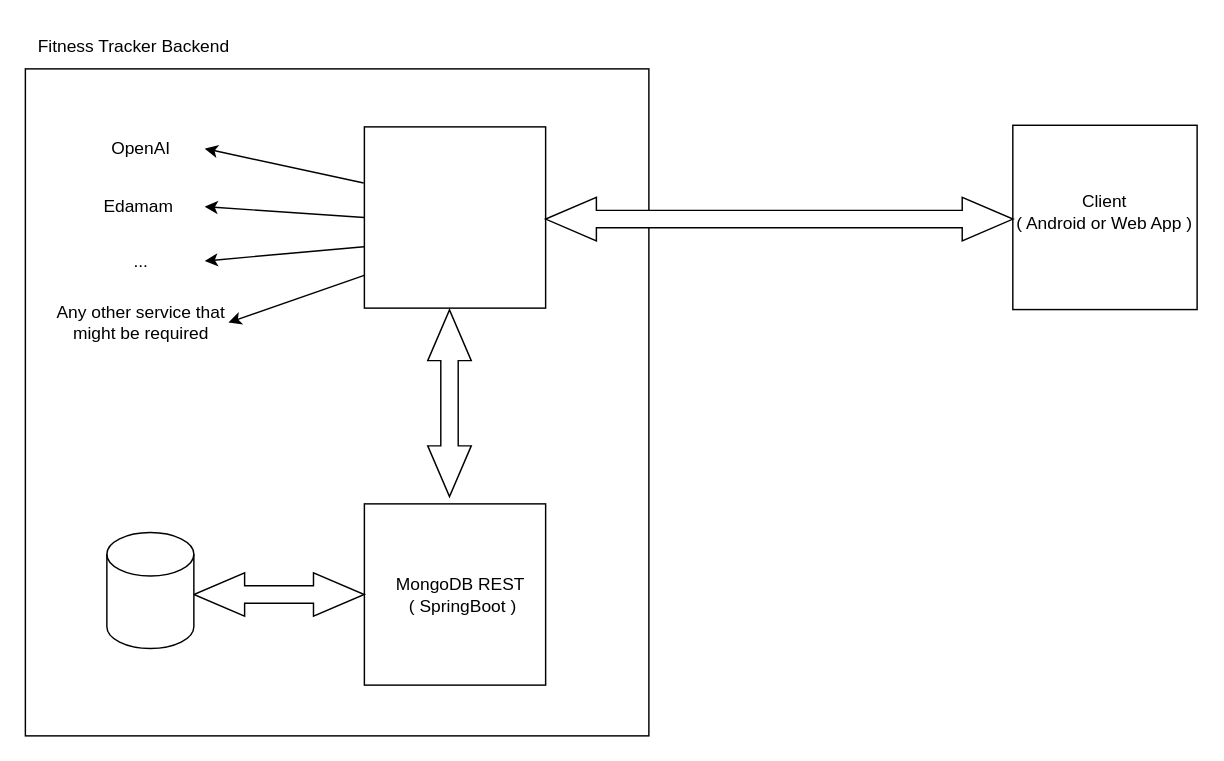
The diagram is 1224 pixels wide and 761 high, and some of its shapes have lost their labels. The shapes that lost their labels are listed below. From the top down, each one's centre as x and y in pixels, then its label:
At [454,216]: "External Services REST".
At [149,590]: "BBDD".
